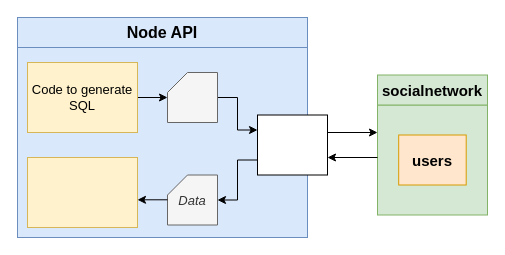
This 505x255 diagram has some shape labels left out. The centre of each missing label's shape, as x and y in pixels:
"Code to interact with this data" belongs at point (82, 192).
"Library to interact with PG" belongs at point (292, 144).
"SQL" belongs at point (192, 97).
